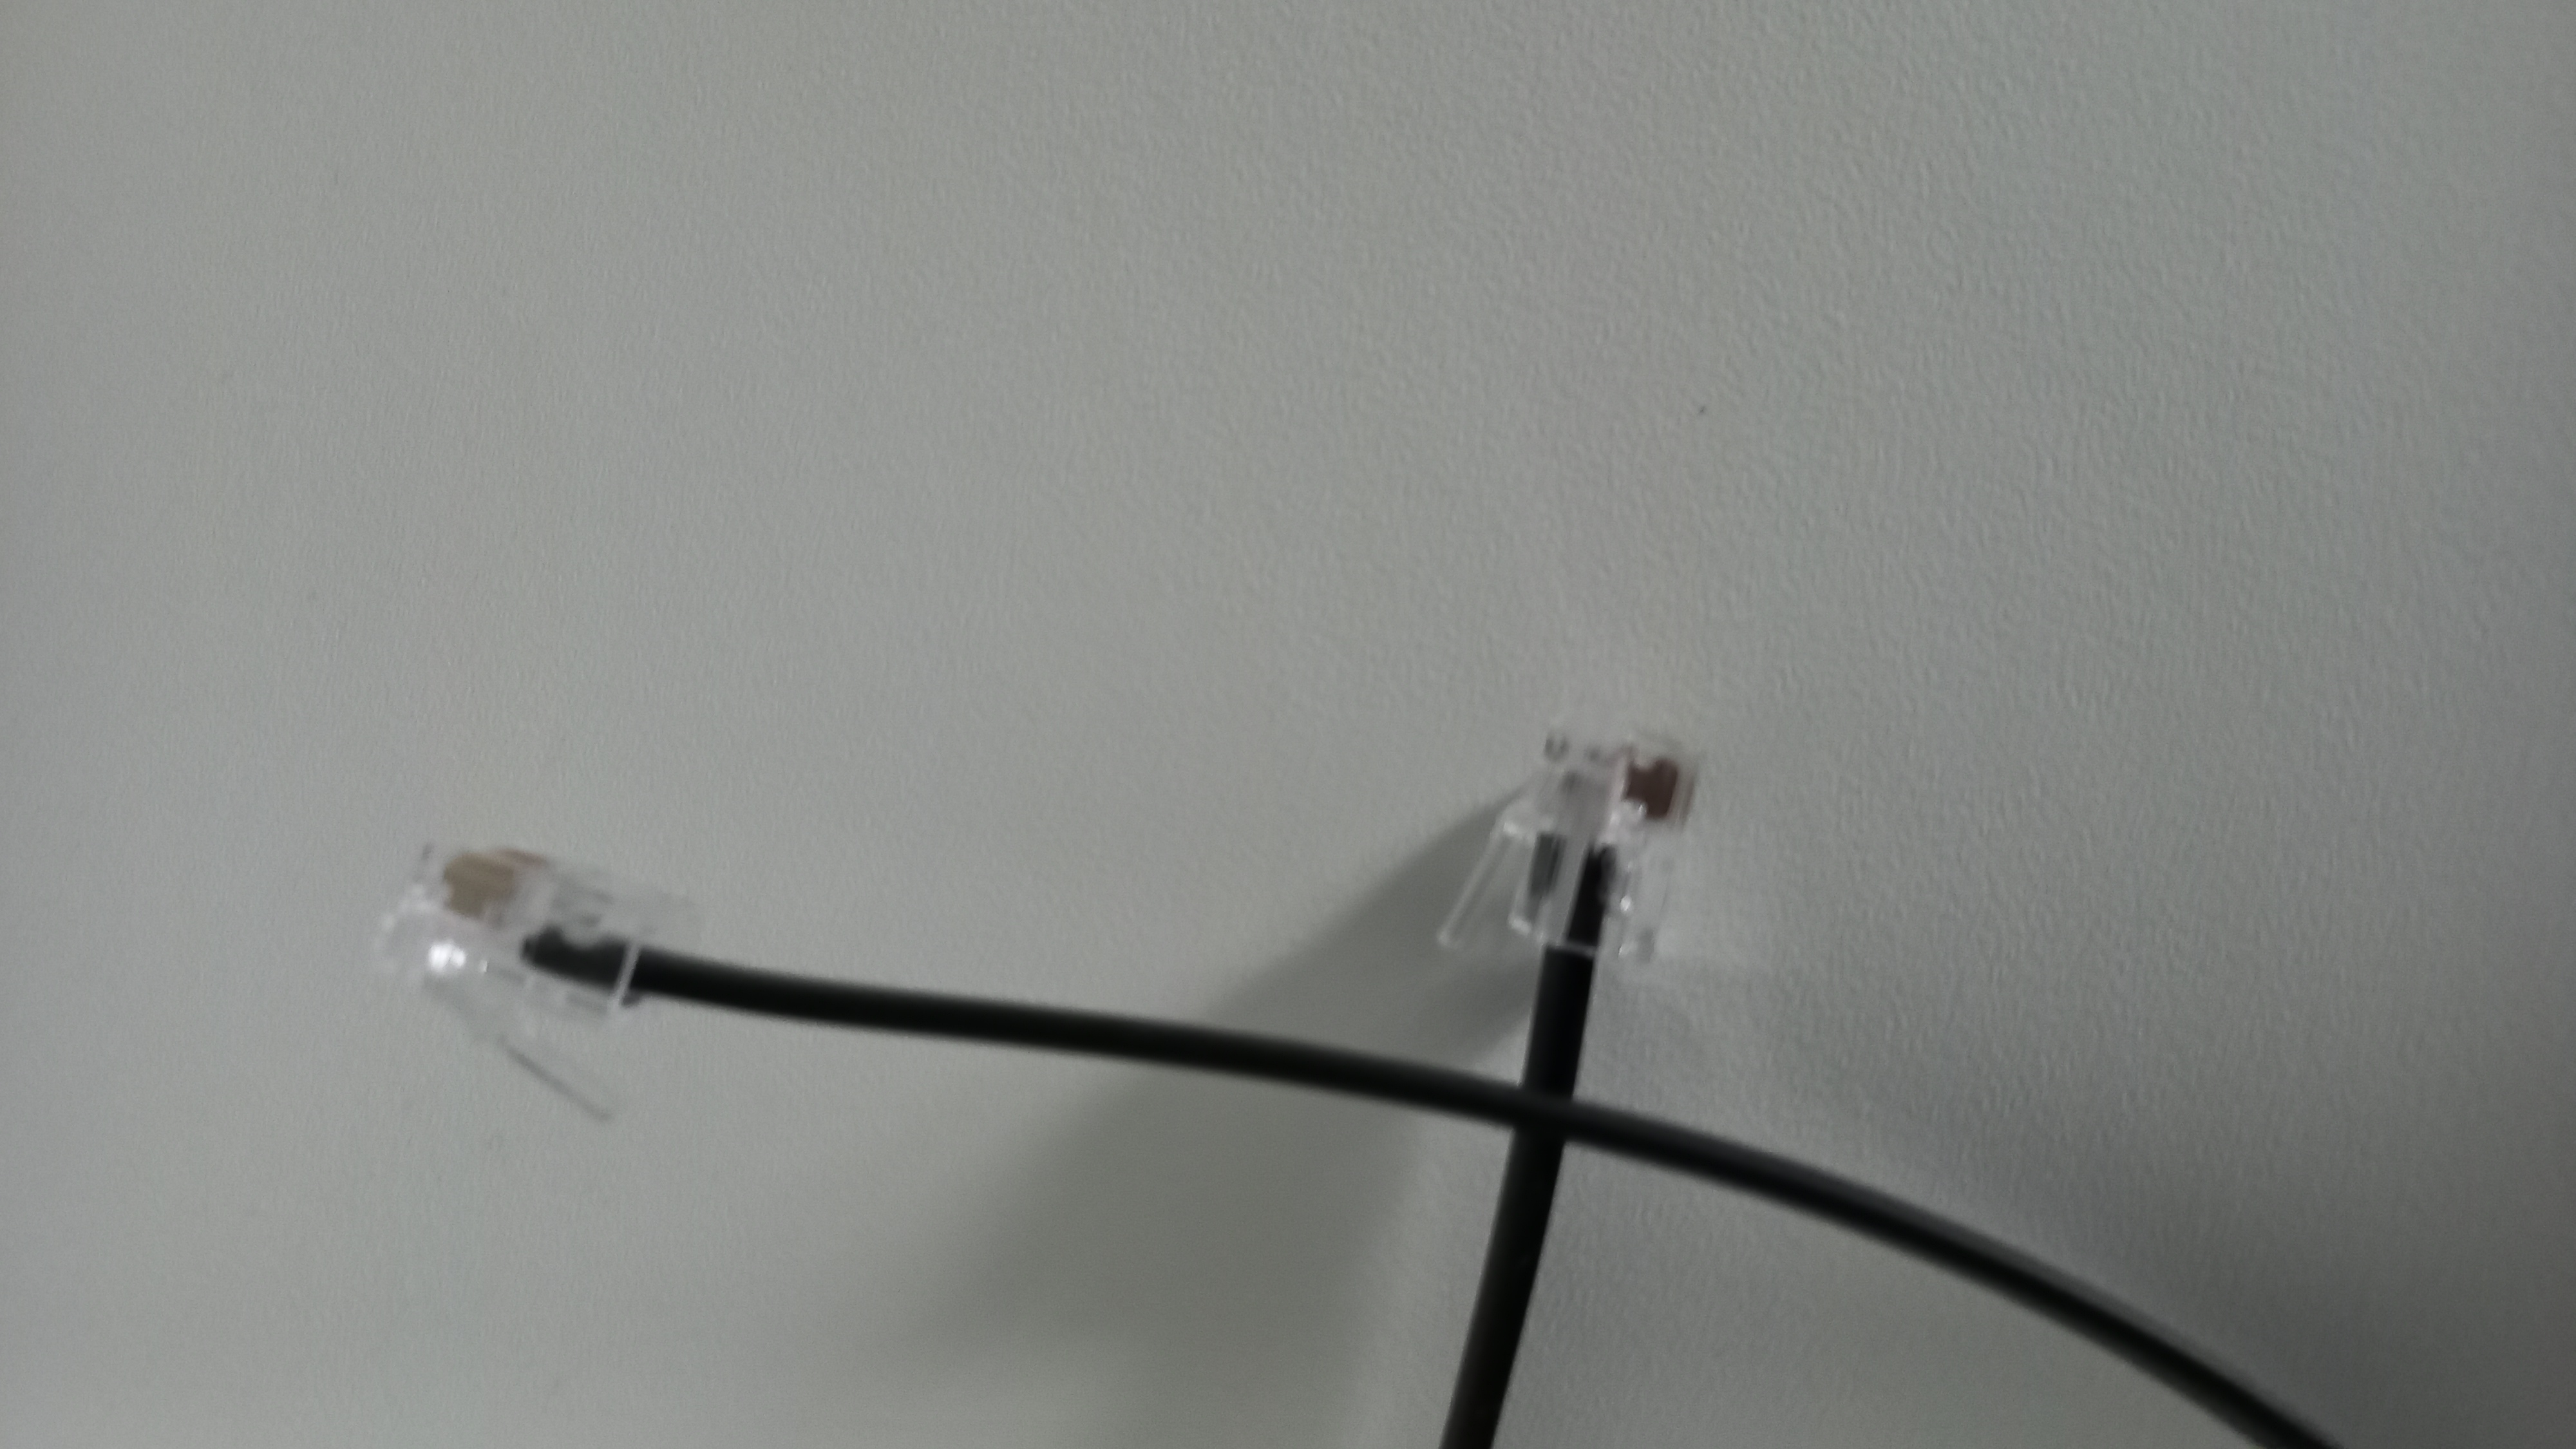Kabel: (370, 688, 2364, 1444)
